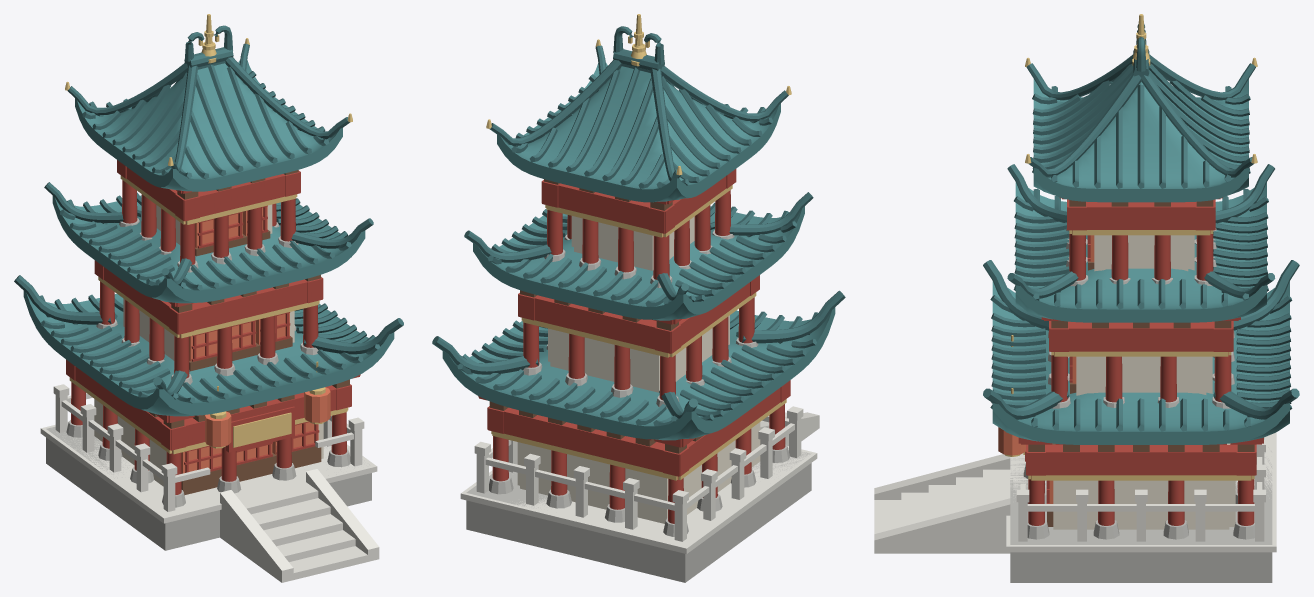
Rendered from SonMon_scripture.fbx.
3 views of the same model, side by side, from view 1: azimuth 30°, elevation 25°; view 2: azimuth 150°, elevation 25°; view 3: azimuth 270°, elevation 25° (orthographic). The views are drawn at different scales.
Parts seen in each view (by area): view 1: scripture; view 2: scripture; view 3: scripture.
Part boxes in pixels (x1=…): scripture: x1=14, y1=14, x2=403, y2=582; scripture: x1=432, y1=14, x2=845, y2=582; scripture: x1=874, y1=14, x2=1299, y2=582.
Size of the model in its own units: 3.03 by 5.4 by 4.06.
